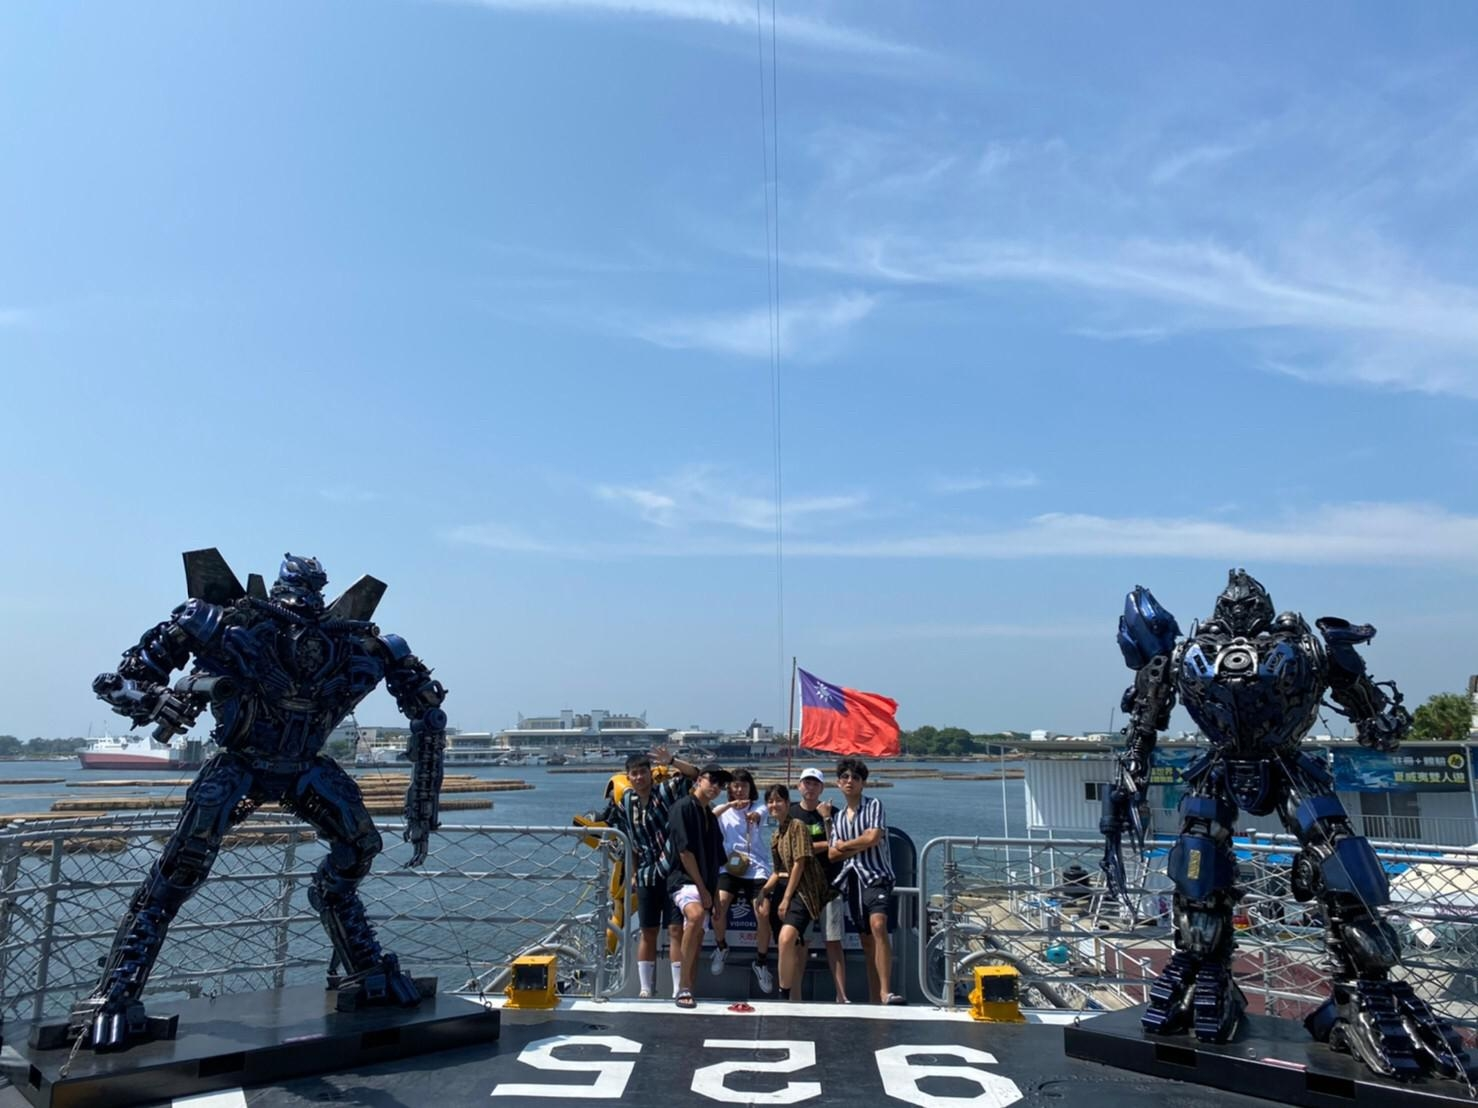people: (833, 769, 896, 1002), (621, 748, 675, 988), (790, 769, 844, 982), (721, 775, 773, 977), (758, 786, 806, 988), (681, 775, 719, 1002)
